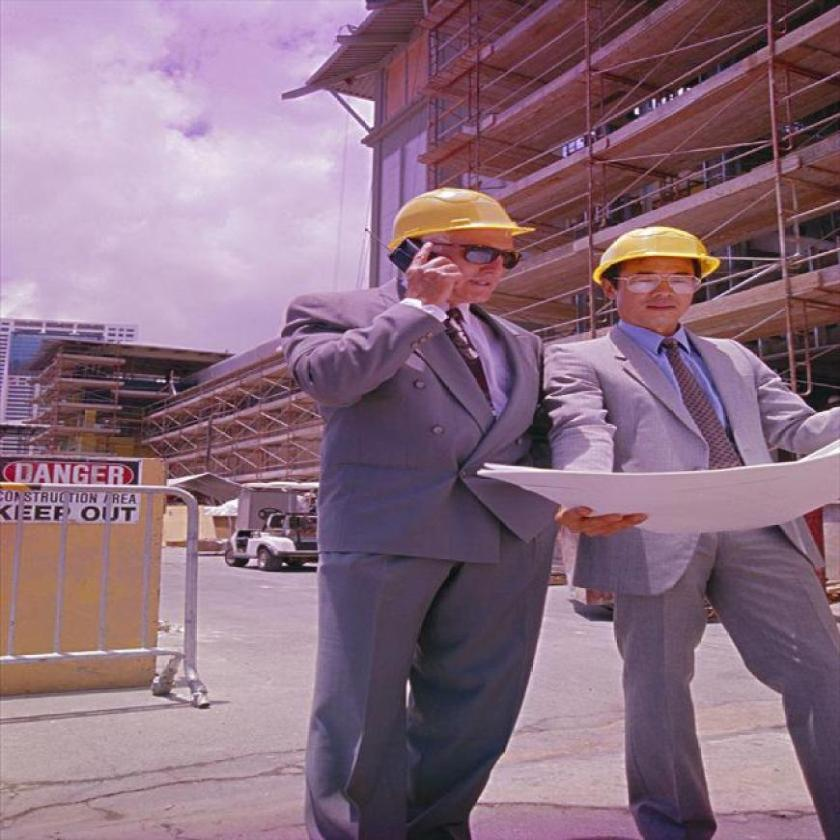Con_casco: (392, 186, 524, 319), (598, 217, 714, 351)
